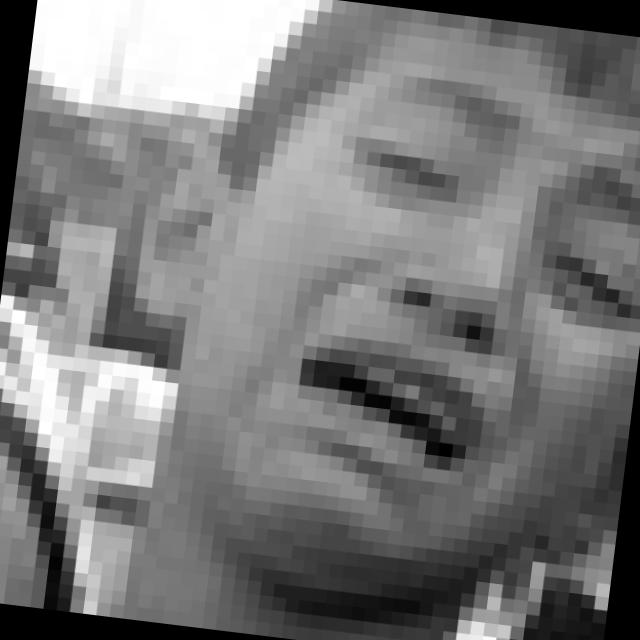sad: (219, 41, 640, 558)
